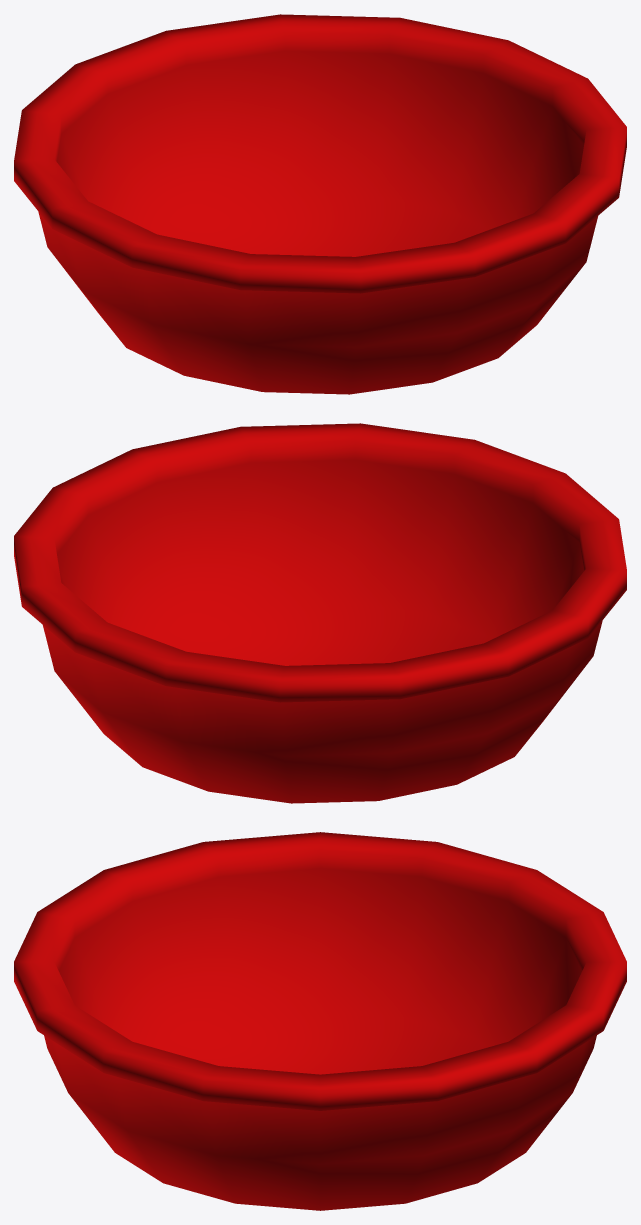
File: Baskom.fbx
3 views of the same model, one above another, from view 1: azimuth 30°, elevation 25°; view 2: azimuth 150°, elevation 25°; view 3: azimuth 270°, elevation 25° (orthographic).
Parts seen in each view (by area): view 1: Baskom; view 2: Baskom; view 3: Baskom.
Boxes of the visible parts, x1,y1,x2,y2 form: Baskom: [14, 14, 626, 394]; Baskom: [14, 423, 626, 803]; Baskom: [14, 832, 626, 1210].
Bounding box in the file's own units: 45.41 × 14.05 × 45.41.
